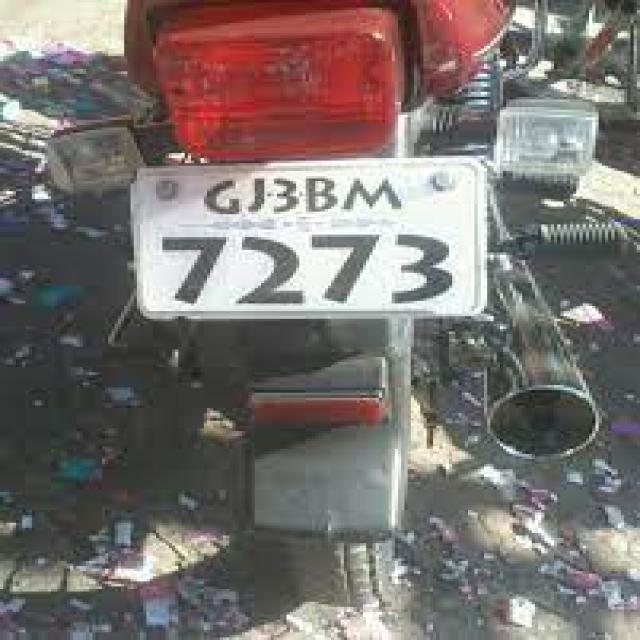number plate: (124, 153, 490, 321)
